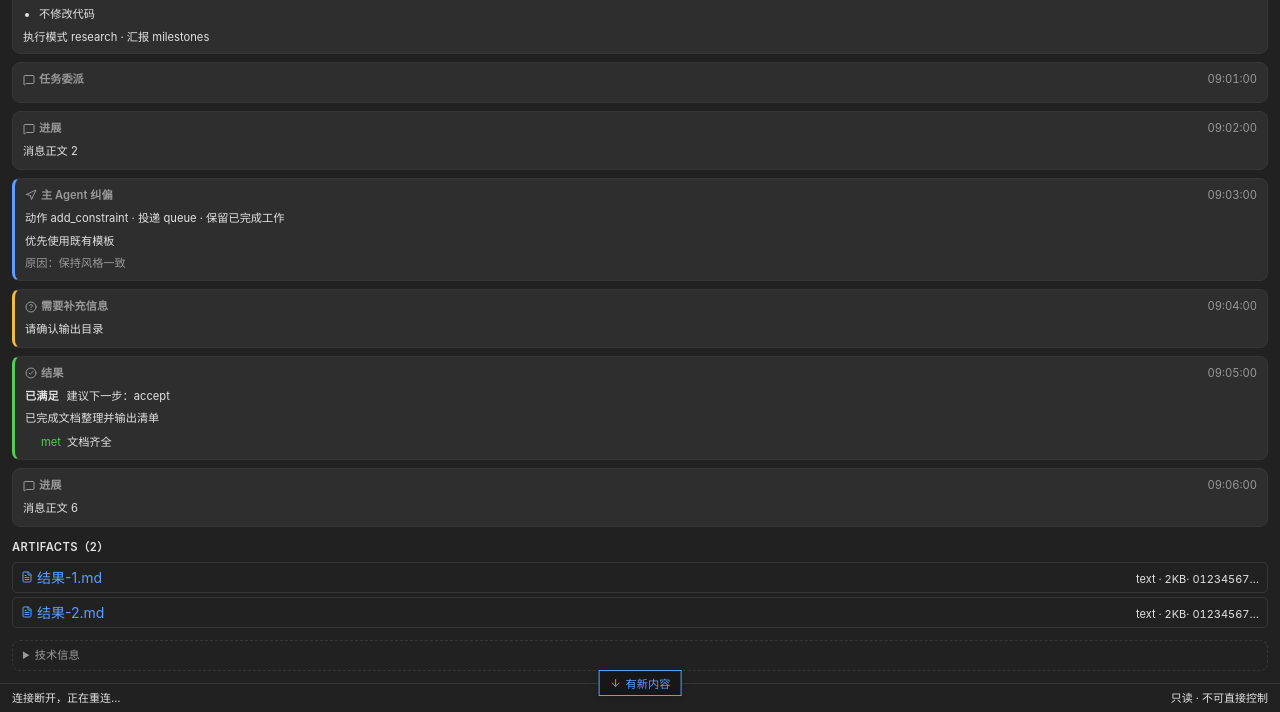
Test: SubagentPanel › 用户上滚后不强制回底，显示「有新内容」提示，点击后回底
(page scrolled)
Click the button with test id "subagent-new-content".
click(640, 683)  # box [599, 670, 681, 696]
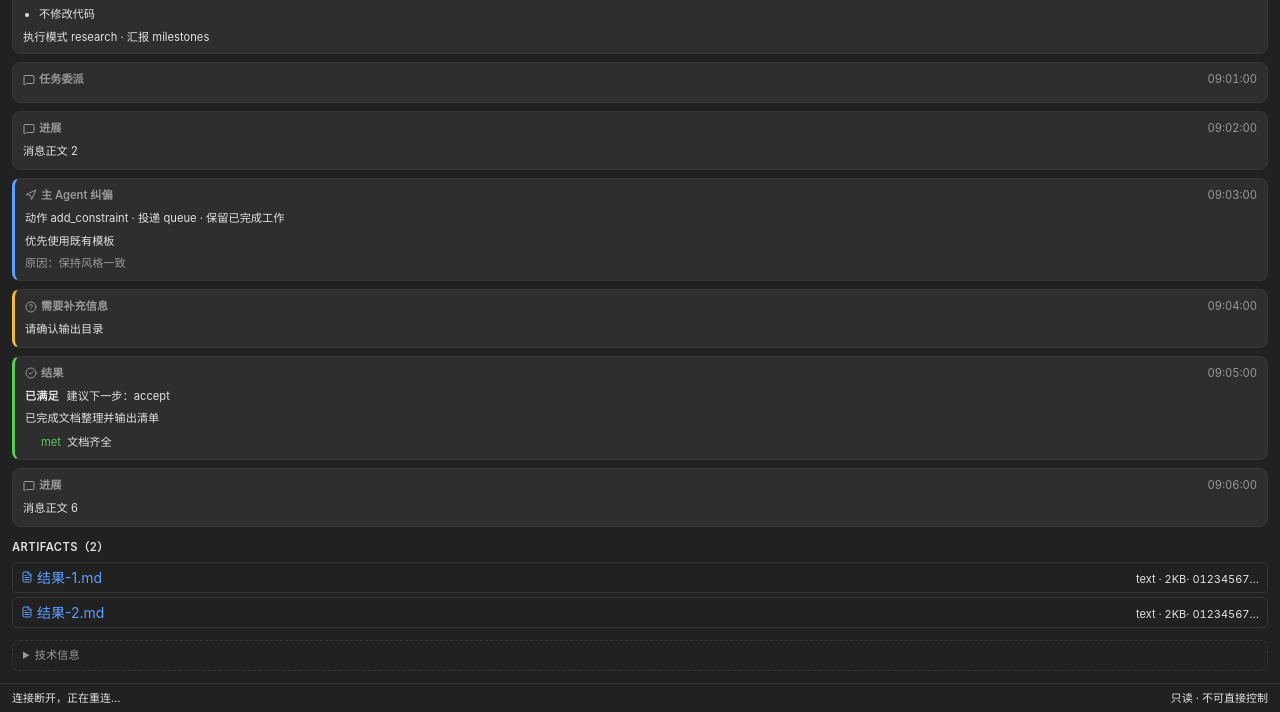
Expected: the button with test id "subagent-new-content" is gone
